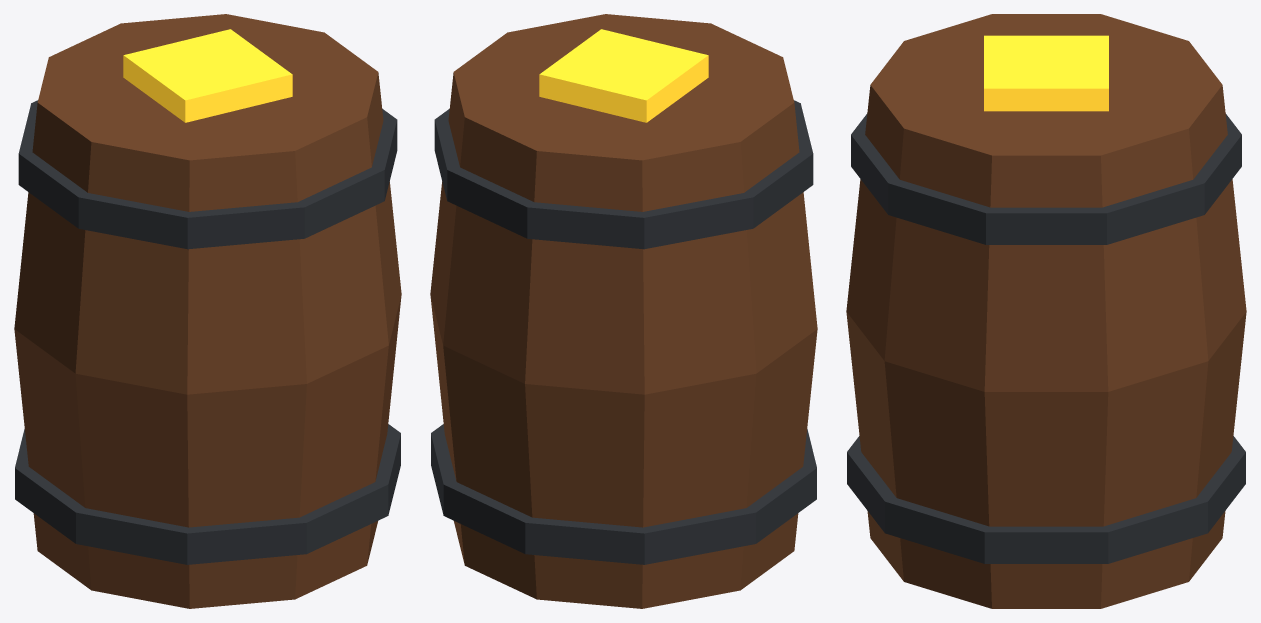
The model's file is Barrel.fbx.
The picture shows the model from 3 angles, left to right: view 1: azimuth 30°, elevation 25°; view 2: azimuth 150°, elevation 25°; view 3: azimuth 270°, elevation 25°; orthographic projection.
Visible parts, largest first — view 1: Body; view 2: Body; view 3: Body.
Boxes of the visible parts, x1,y1,x2,y2 form: Body: (14, 14, 401, 608); Body: (430, 14, 817, 608); Body: (846, 14, 1246, 608).
Bounding box in the file's own units: 0.7608 × 1.05 × 0.8.
